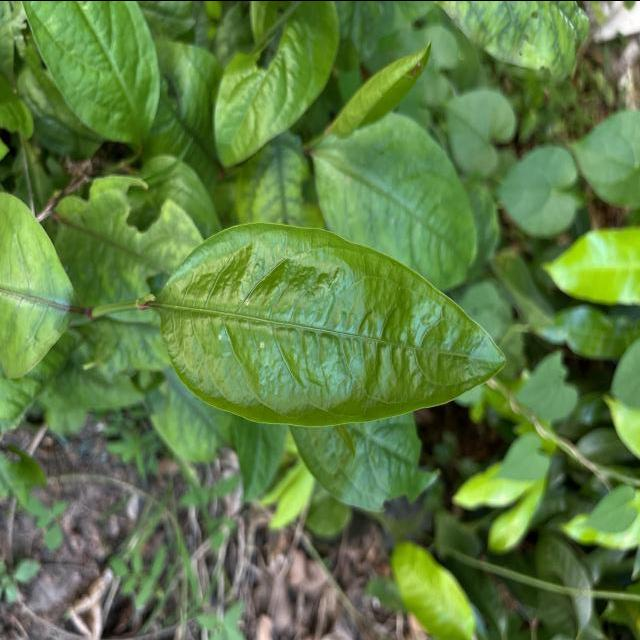Plumbago indica: (152, 218, 514, 430), (307, 106, 487, 294), (211, 2, 348, 176), (15, 0, 165, 148)
